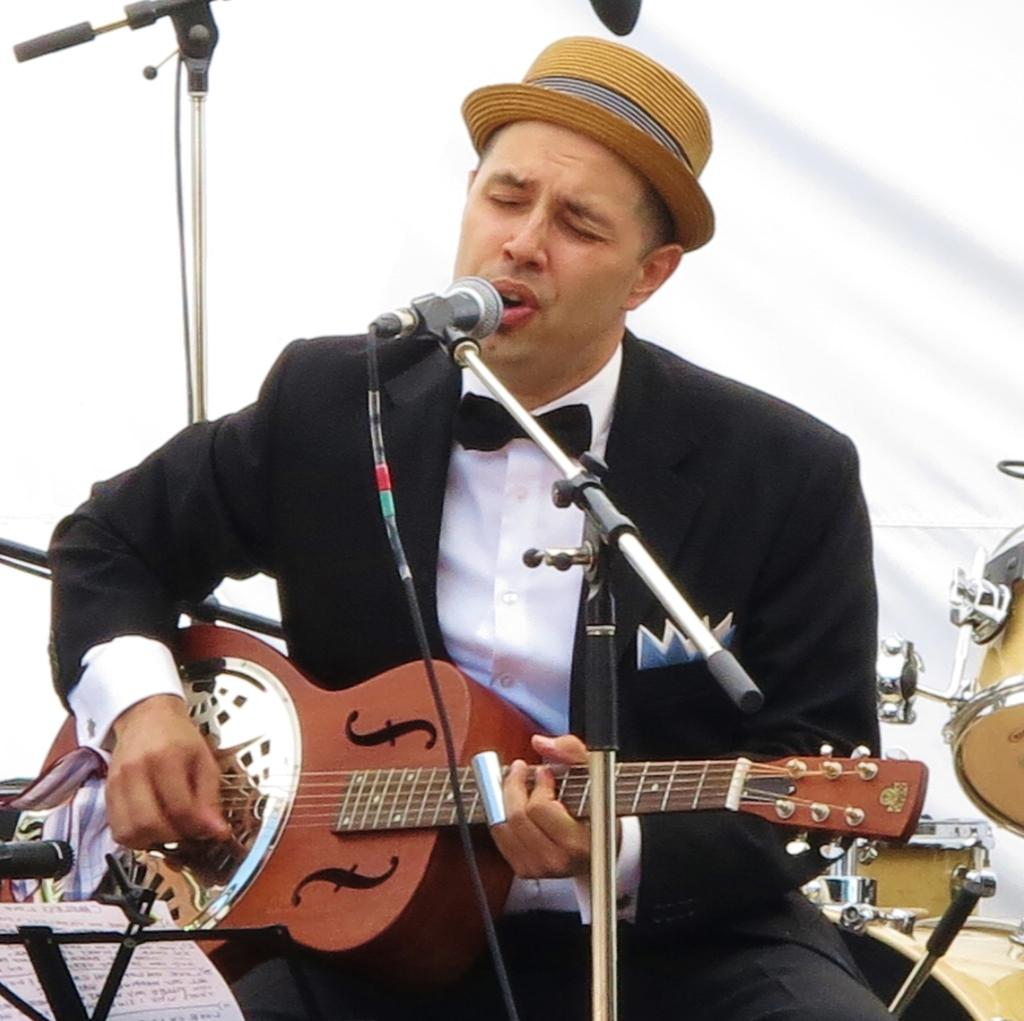Hat: (458, 29, 716, 254)
